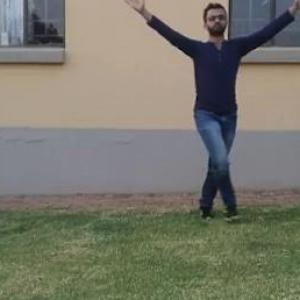takeoff: (136, 0, 299, 201)
